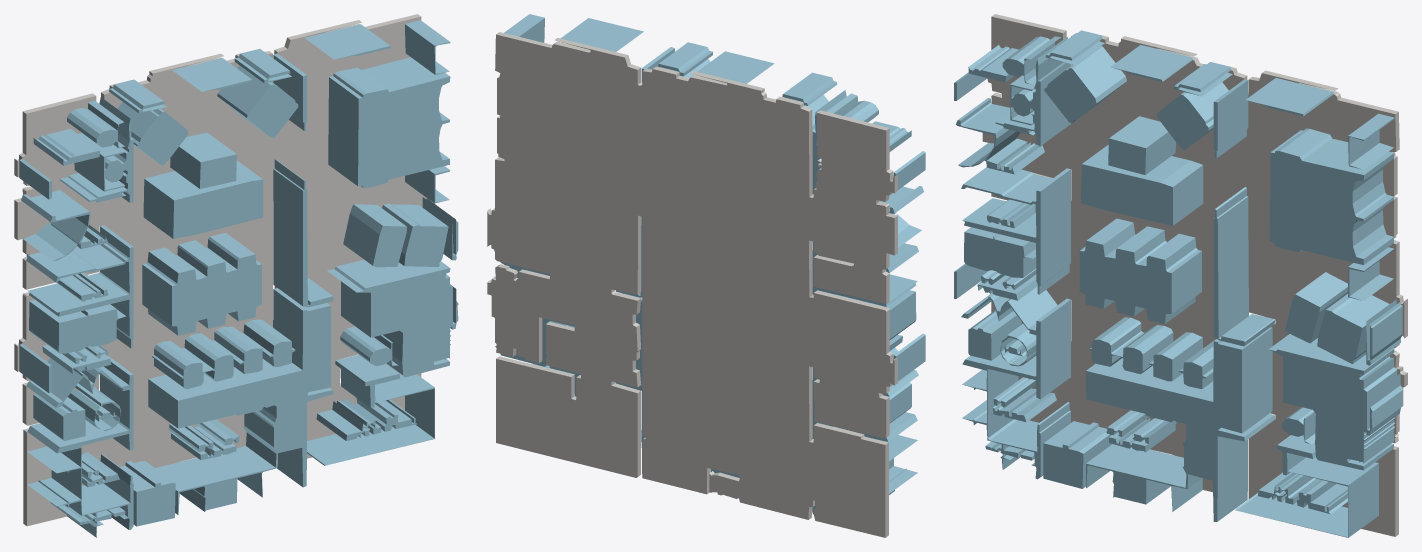
3 renders of one model, left to right at view 1: azimuth 30°, elevation 25°; view 2: azimuth 150°, elevation 25°; view 3: azimuth 330°, elevation 25°, orthographic. The views are drawn at different scales.
Visible parts, largest first — view 1: world; view 2: world; view 3: world.
Boxes of the visible parts, box(x1,y1,x2,y2) form: world: box(14, 14, 458, 537); world: box(487, 14, 925, 537); world: box(954, 14, 1407, 537).
Size of the model in its own units: 10.23 by 10.02 by 1.43.
